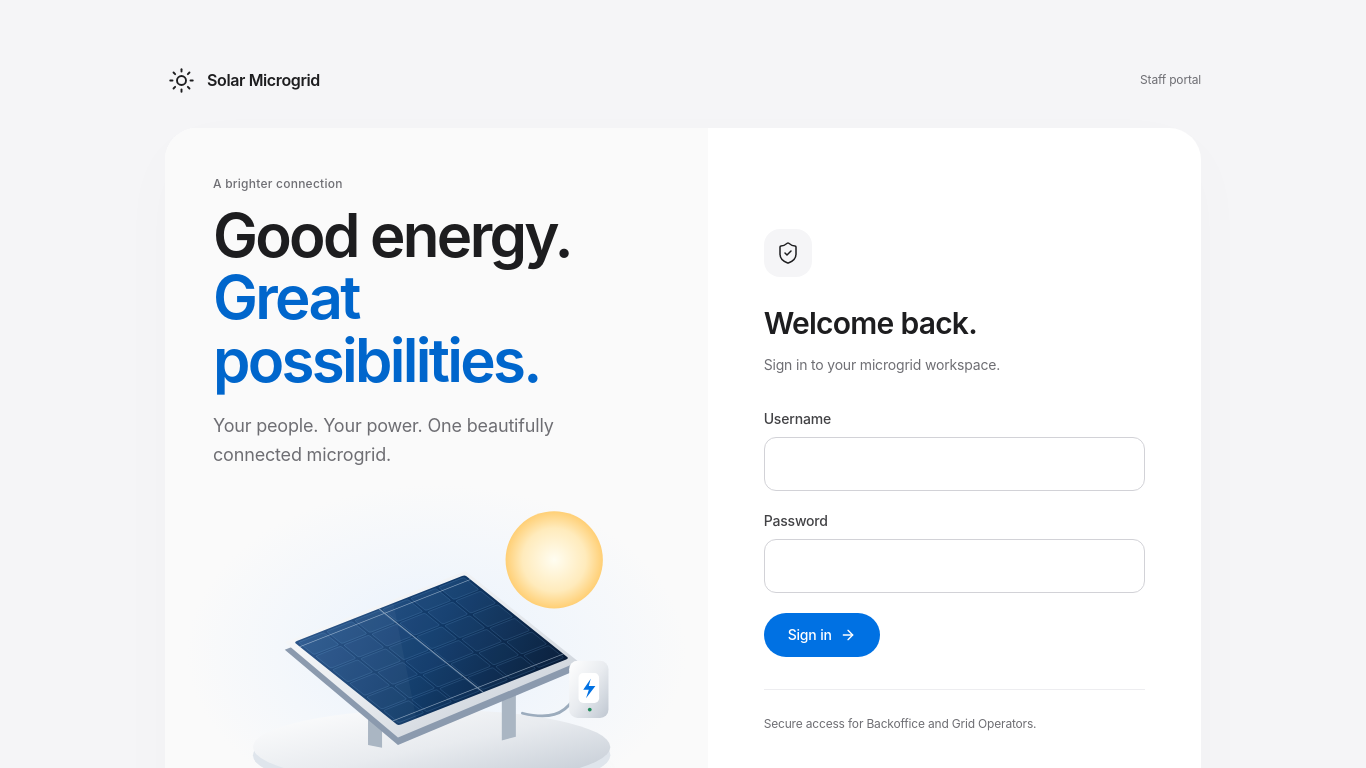
Test case: React portal workflows › submits login with the antiforgery token and renders a server redirect
Type "operator" into the field labelled "Username".
click(954, 464); type("operator")  # box [764,437,1145,491]
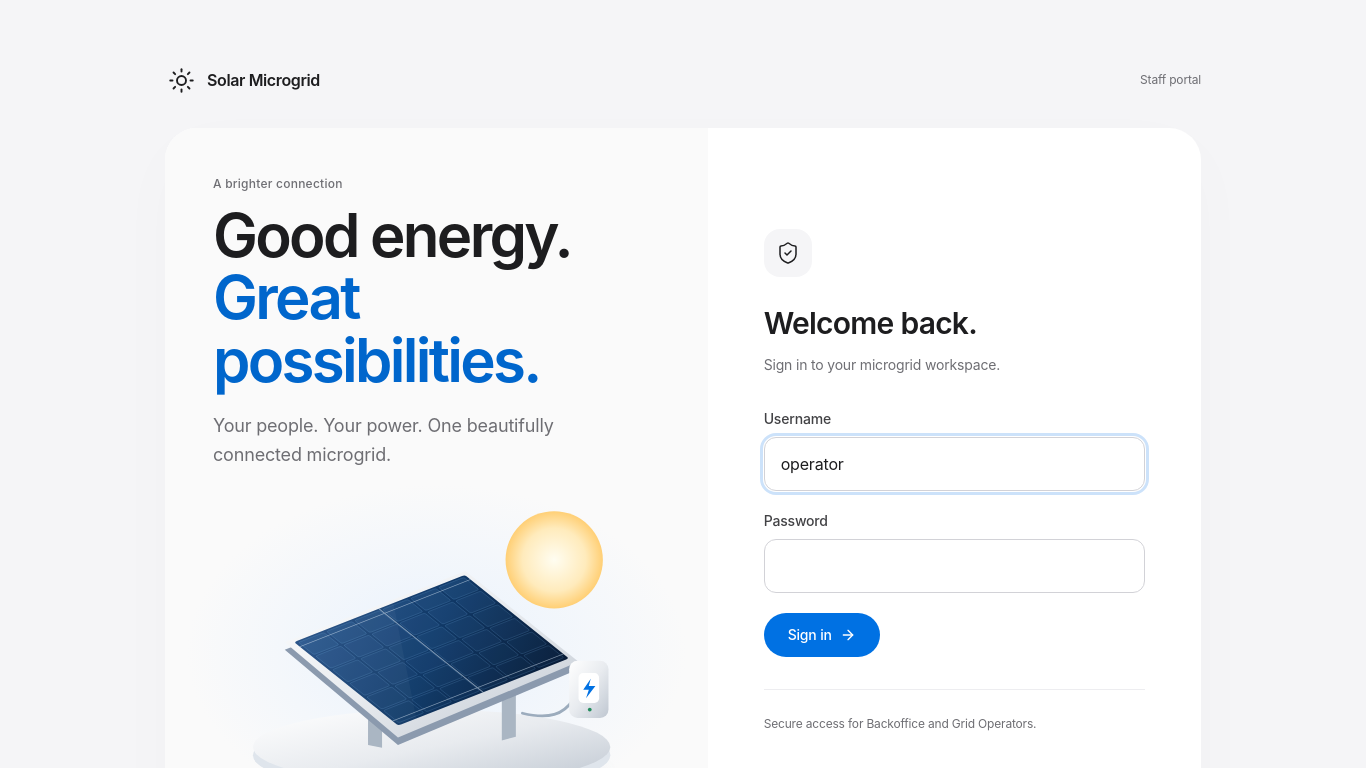
Type "correct-password" into the password field labelled "Password".
click(954, 566); type("correct-password")  # box [764,539,1145,593]
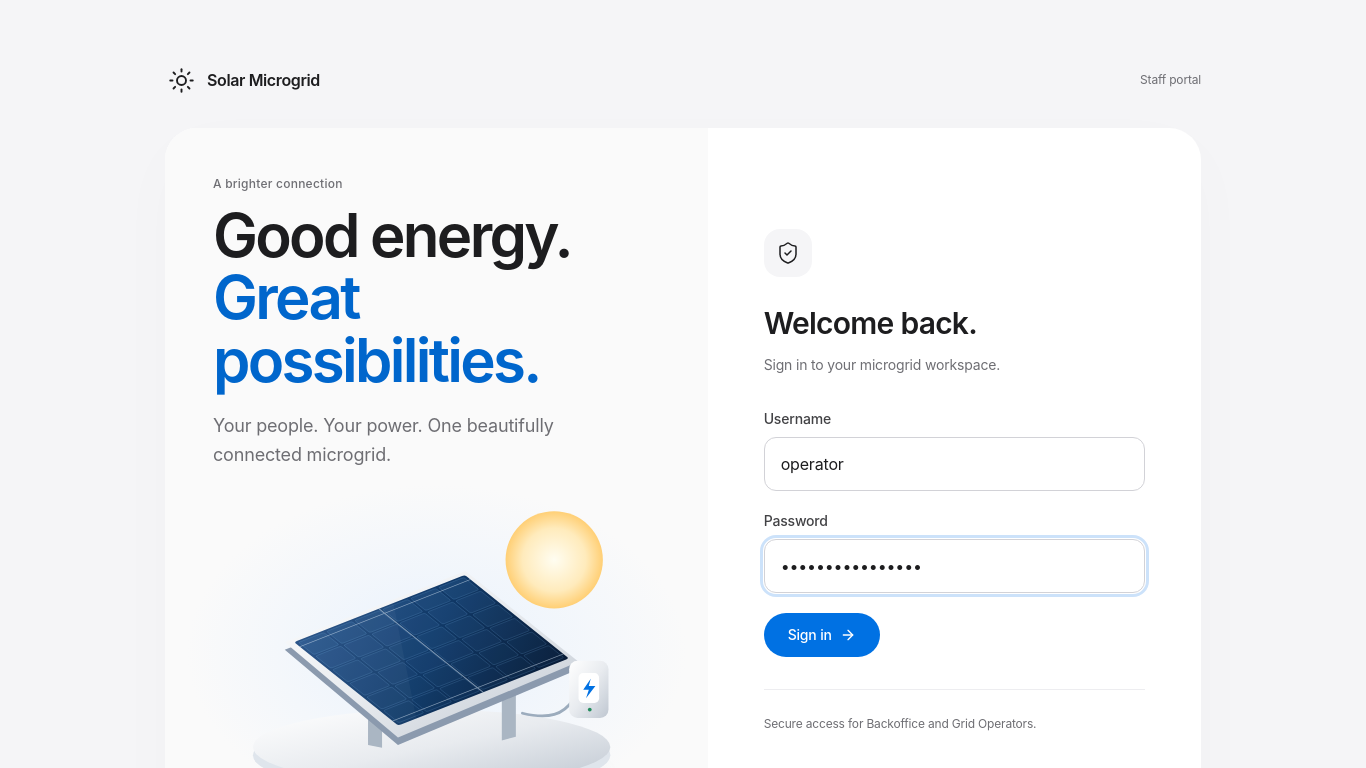
Click the button "Sign in".
click(822, 635)  # box [764,613,880,657]
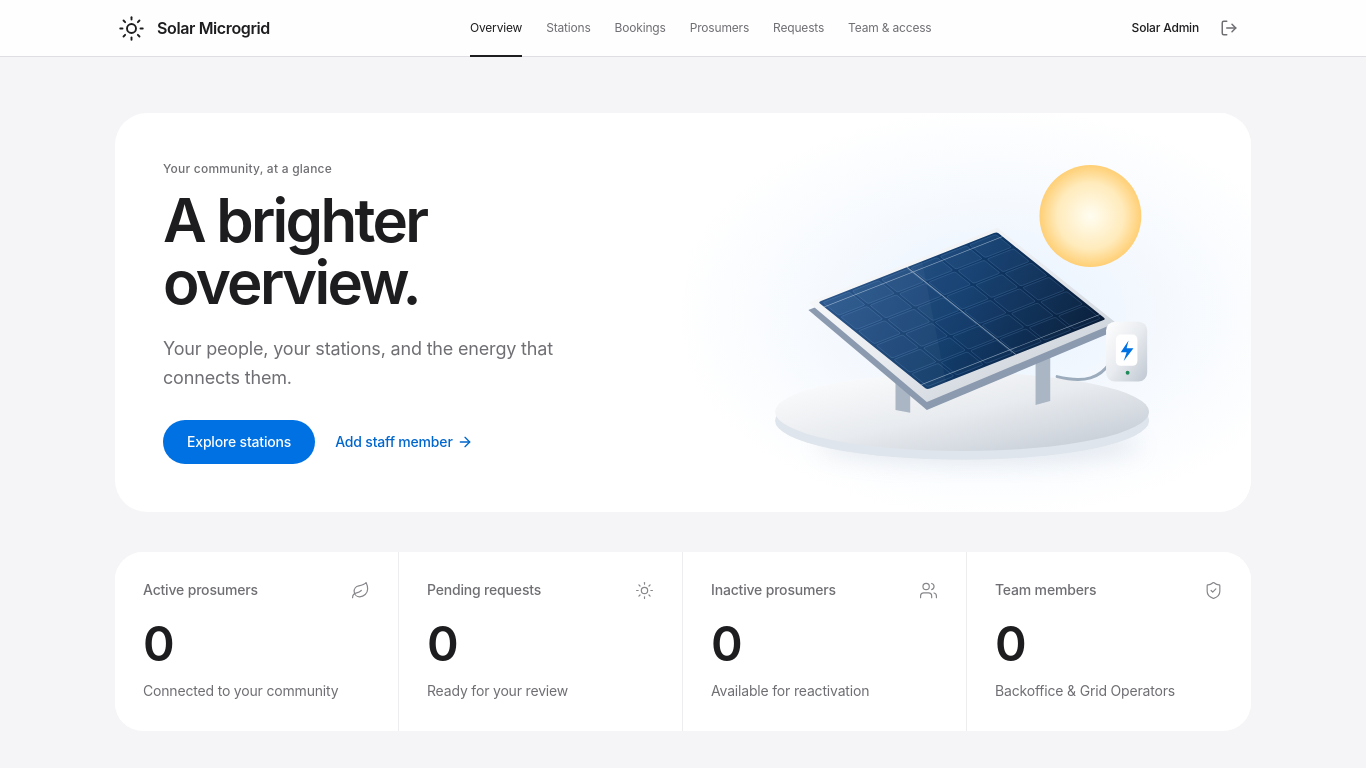
Expected: the heading "A brighter overview." is shown, [163,184,426,318]
